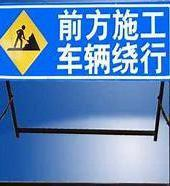sign: (1, 5, 170, 78)
